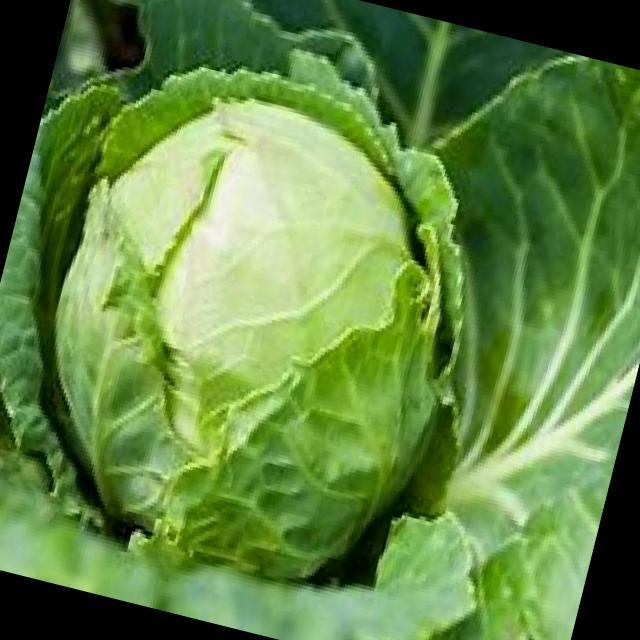cabbage: (9, 40, 496, 596)
